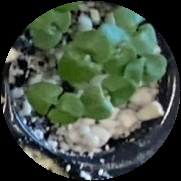Basil: (114, 10, 159, 53), (29, 83, 76, 123), (67, 31, 105, 80), (80, 78, 128, 116), (36, 4, 71, 50), (124, 54, 165, 87)
